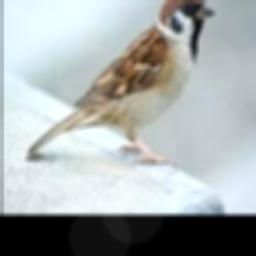Sparrow: (27, 0, 214, 164)
